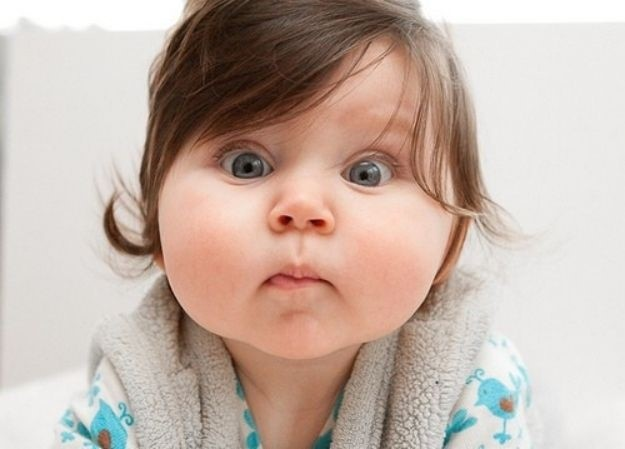face_no_mask: (146, 0, 472, 363)
